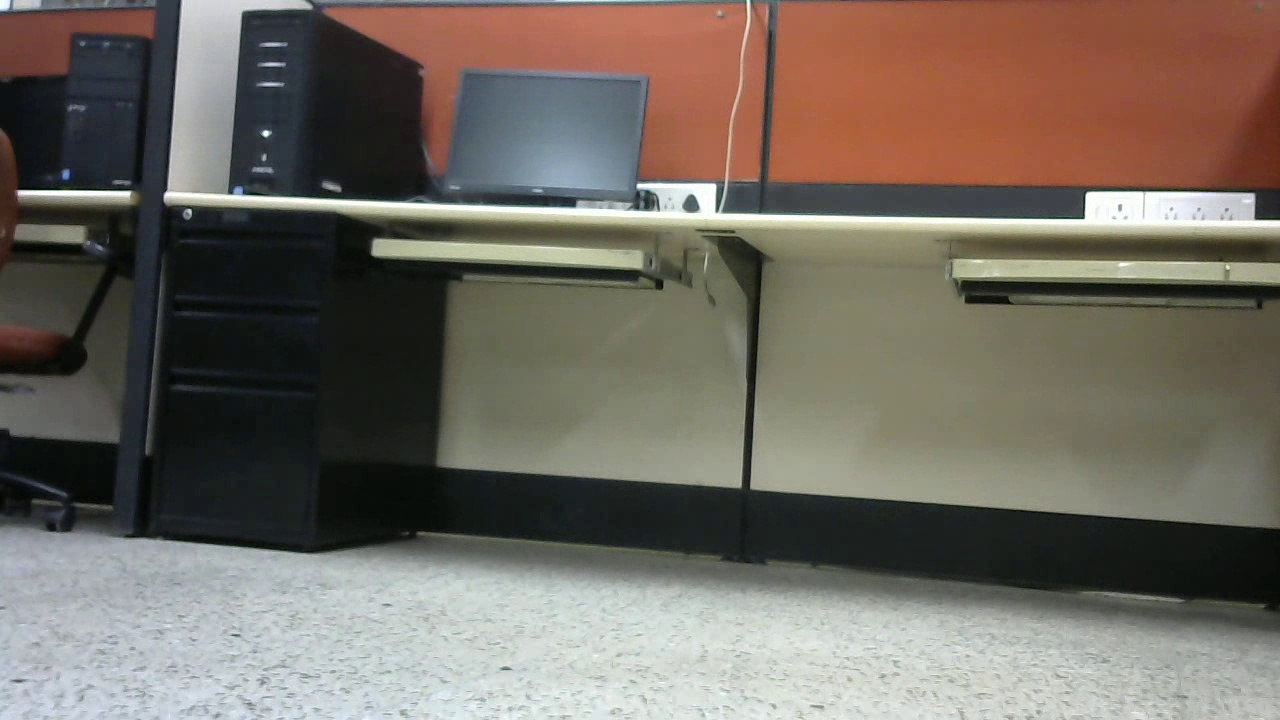chair: (2, 123, 136, 537)
